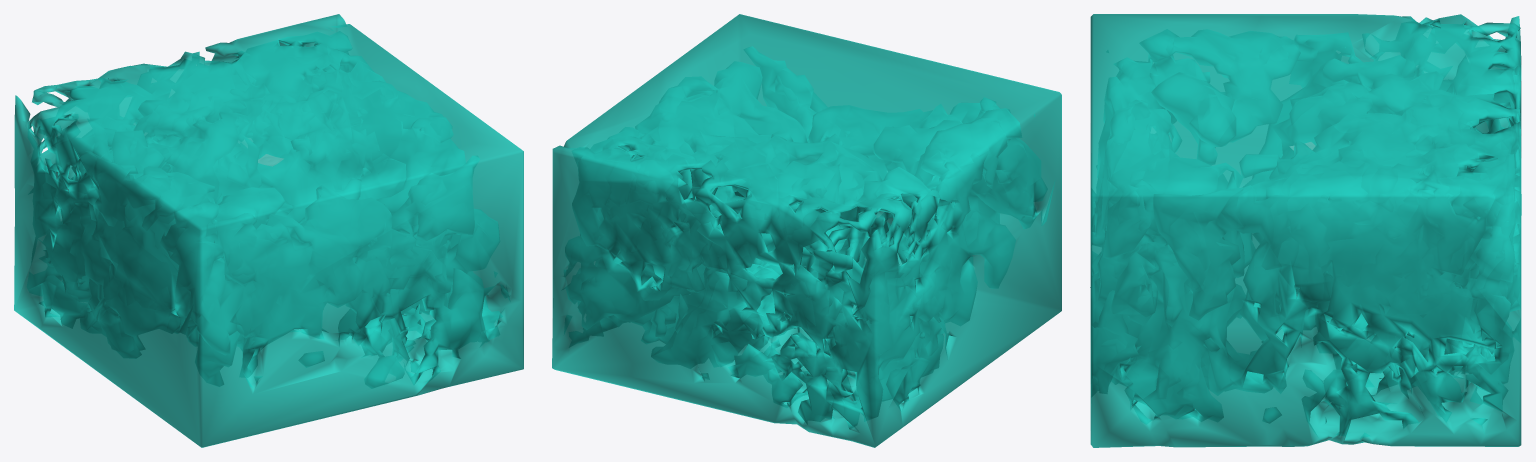
The picture shows the model from 3 angles, left to right: view 1: azimuth 30°, elevation 25°; view 2: azimuth 150°, elevation 25°; view 3: azimuth 270°, elevation 25°; orthographic projection. The views are drawn at different scales.
Parts seen in each view (by area): view 1: Liquid_Domain; view 2: Liquid_Domain; view 3: Liquid_Domain.
Boxes of the visible parts, <box> form: Liquid_Domain: <box>14,14,523,447</box>; Liquid_Domain: <box>552,14,1061,447</box>; Liquid_Domain: <box>1090,14,1521,447</box>.
Bounding box in the file's own units: 391 × 254 × 391.
